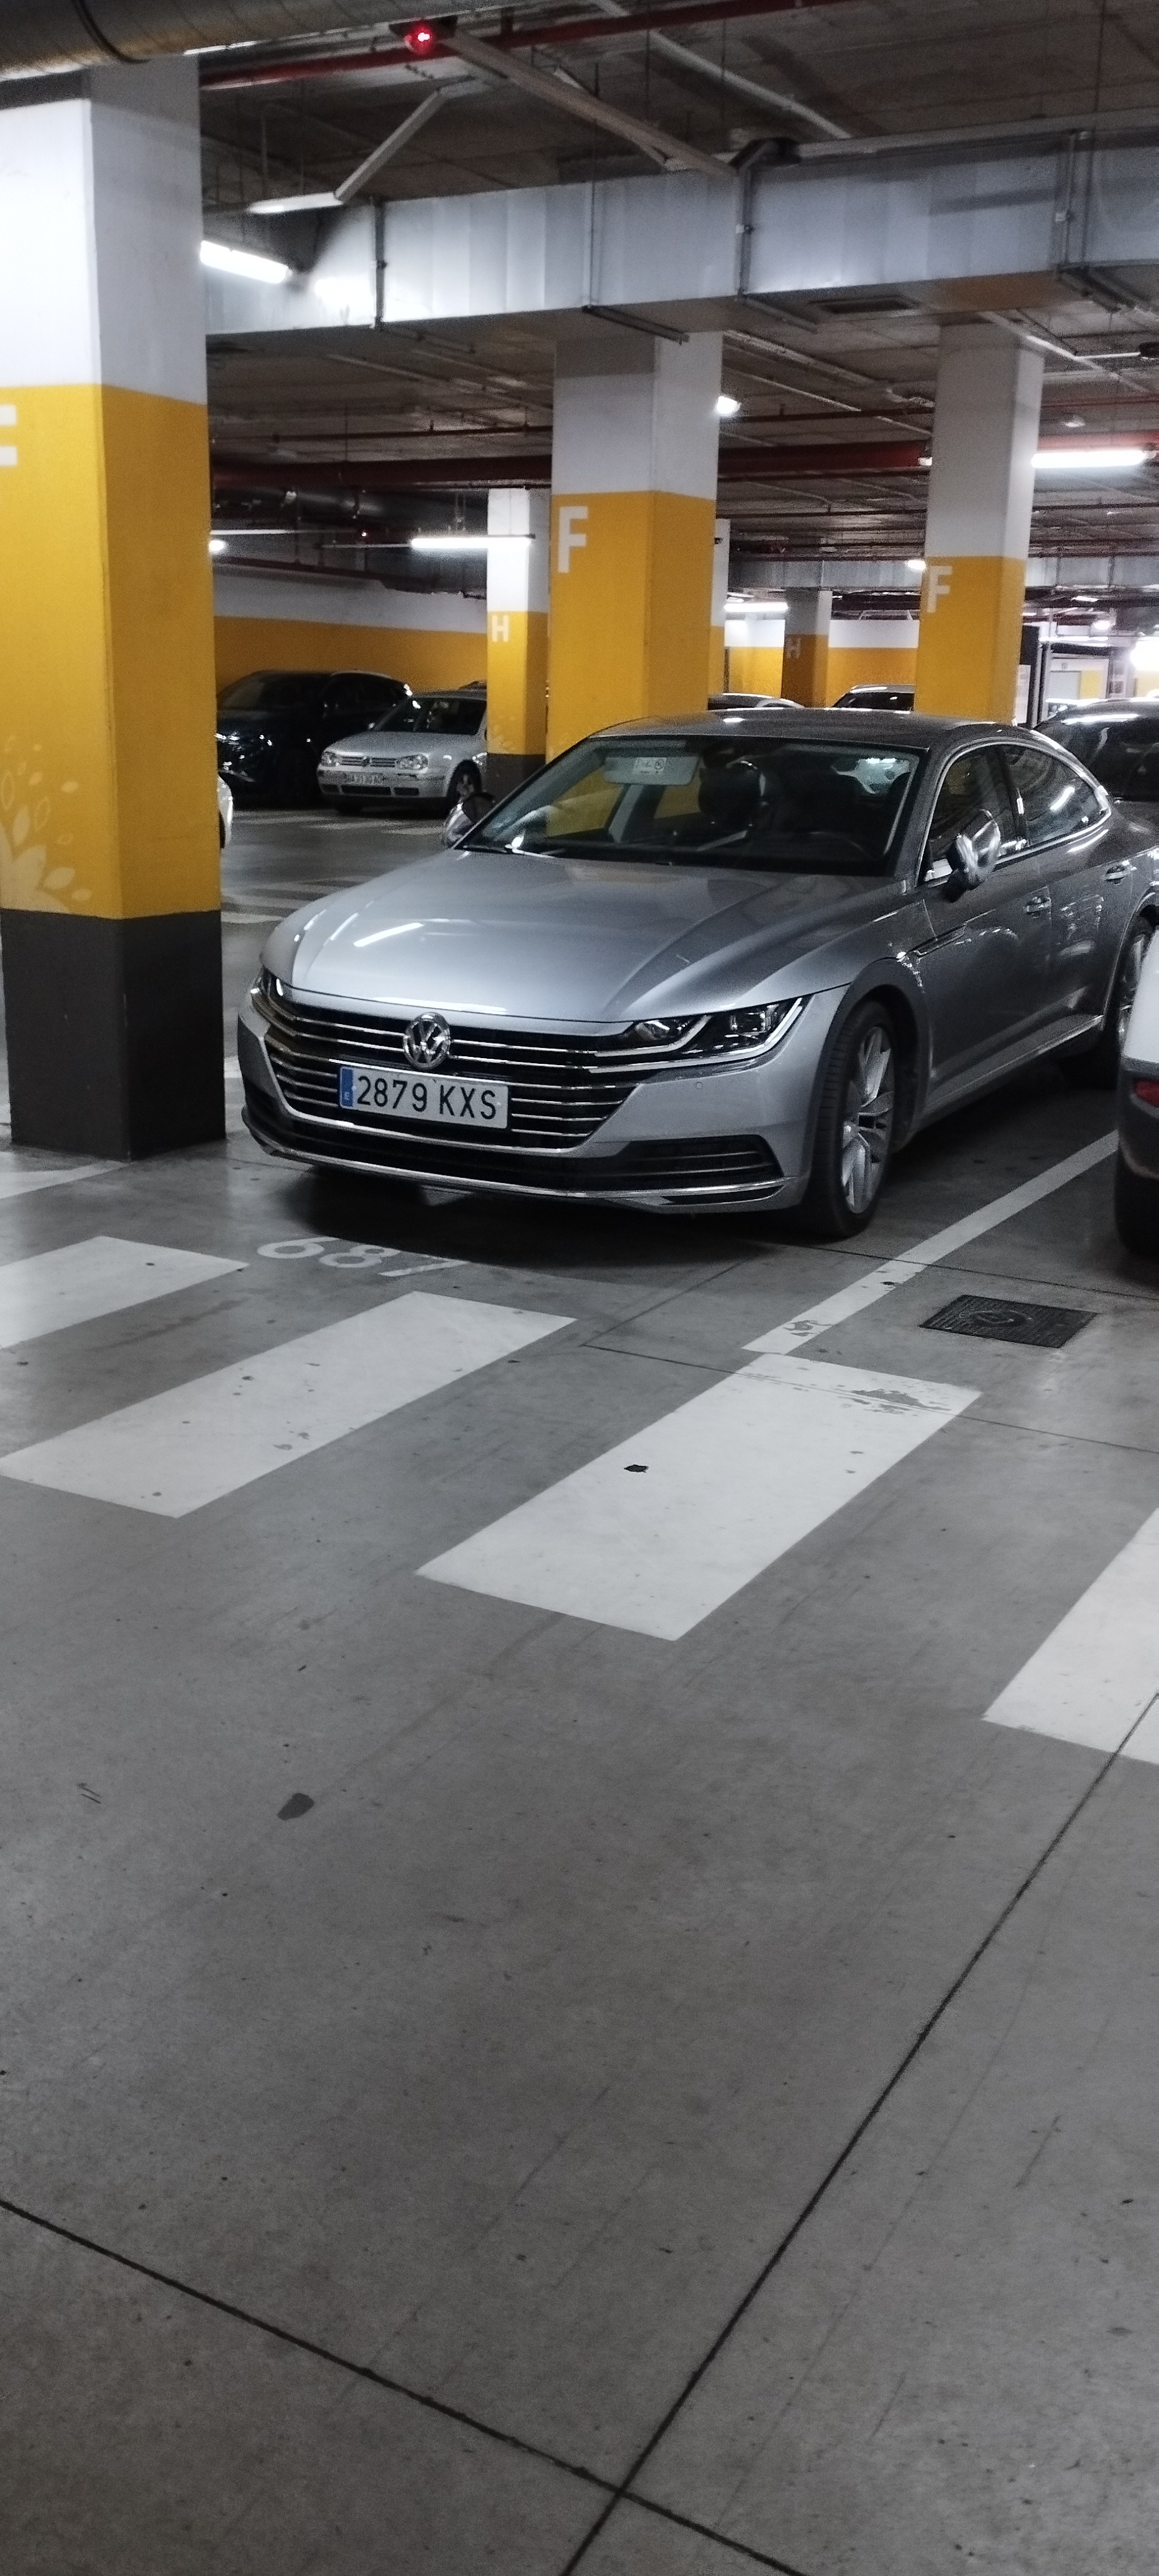Car: (233, 712, 1155, 1231)
Plate: (340, 1061, 513, 1111)
